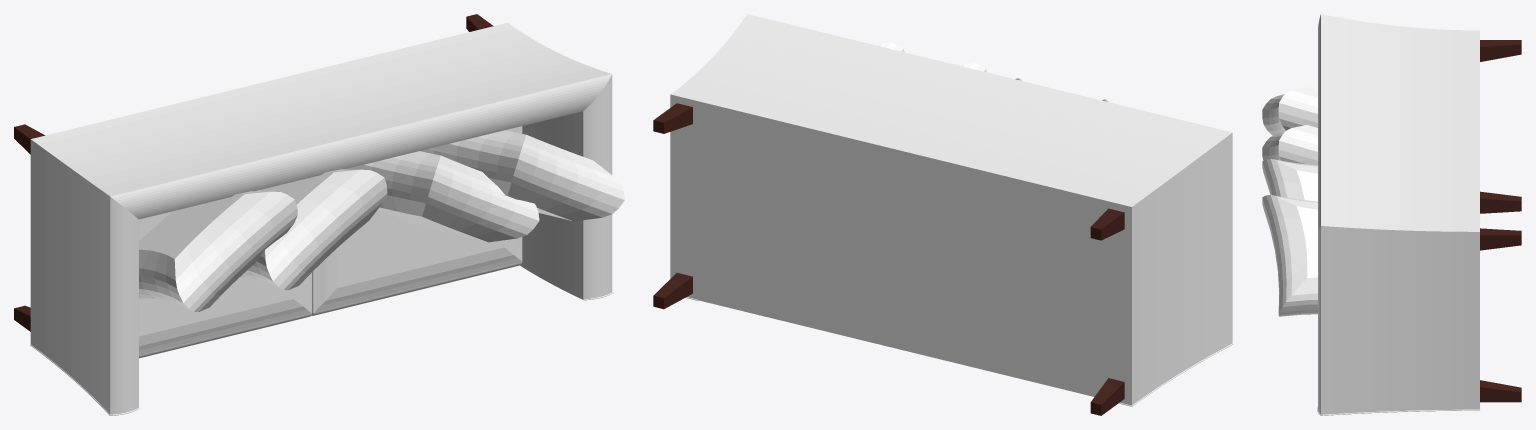
3 views of the same model, side by side, from view 1: azimuth 30°, elevation 25°; view 2: azimuth 150°, elevation 25°; view 3: azimuth 270°, elevation 25° (orthographic). The views are drawn at different scales.
Visible parts, largest first — view 1: sofa; view 2: sofa; view 3: sofa.
Part boxes in pixels (box(x1,y1,x2,y2)): sofa: box(14, 14, 624, 415); sofa: box(653, 14, 1233, 415); sofa: box(1262, 14, 1521, 415).
Size of the model in its own units: 71.05 by 29.65 by 36.62.
